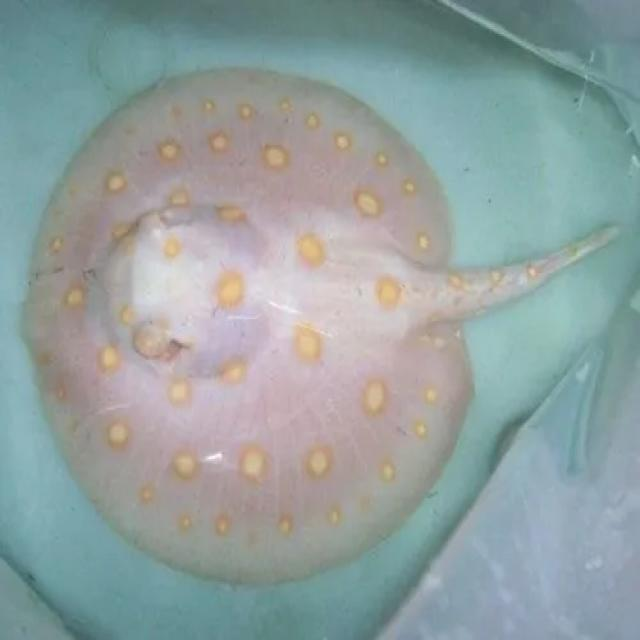albino-sting-ray: (14, 25, 626, 603)
